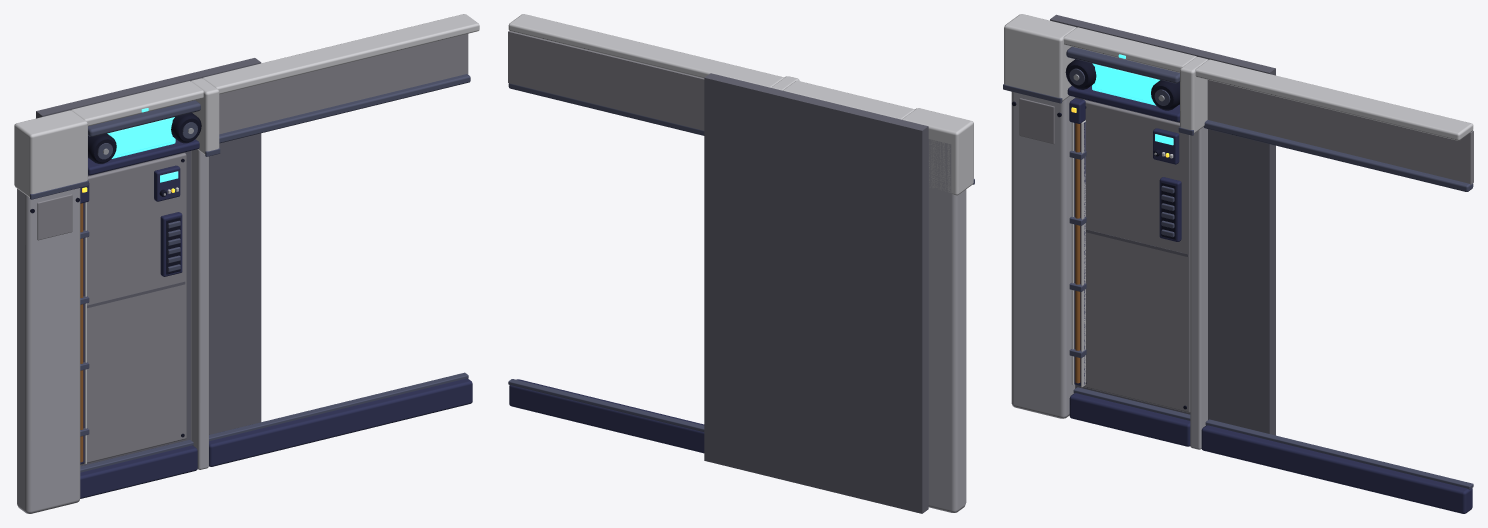
File: int.wallbay.far.03.w1.glb
3 renders of one model, left to right at view 1: azimuth 30°, elevation 25°; view 2: azimuth 150°, elevation 25°; view 3: azimuth 330°, elevation 25°, orthographic.
Visible parts, largest first — view 1: int.wallbay.far.03.w1; view 2: int.wallbay.far.03.w1; view 3: int.wallbay.far.03.w1.
Boxes of the visible parts, box(x1,y1,x2,y2) form: int.wallbay.far.03.w1: box(14, 14, 479, 513); int.wallbay.far.03.w1: box(508, 14, 974, 513); int.wallbay.far.03.w1: box(1003, 14, 1473, 513).
Size of the model in its own units: 2.07 by 1.68 by 0.2.
